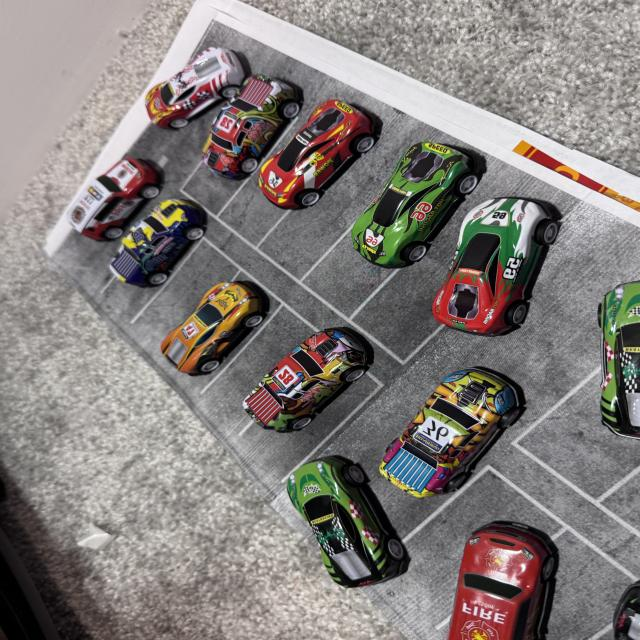Car: (409, 191, 606, 341), (204, 314, 400, 442), (296, 134, 478, 268), (378, 352, 548, 492), (146, 60, 328, 186), (228, 94, 390, 219), (564, 265, 640, 510), (81, 186, 237, 286), (294, 428, 375, 618), (40, 138, 188, 240), (457, 506, 569, 640), (153, 282, 300, 382), (140, 24, 267, 120), (570, 569, 640, 640)
